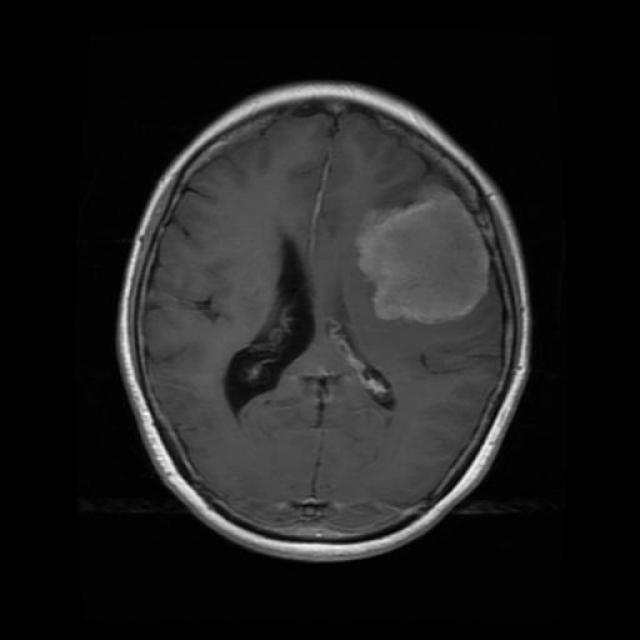Brain-Tumor: (355, 186, 501, 326)
